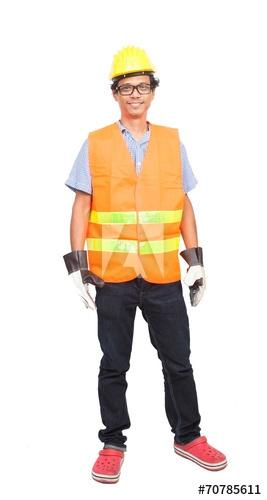helmet: (109, 43, 155, 84)
wear: (77, 128, 187, 279)
